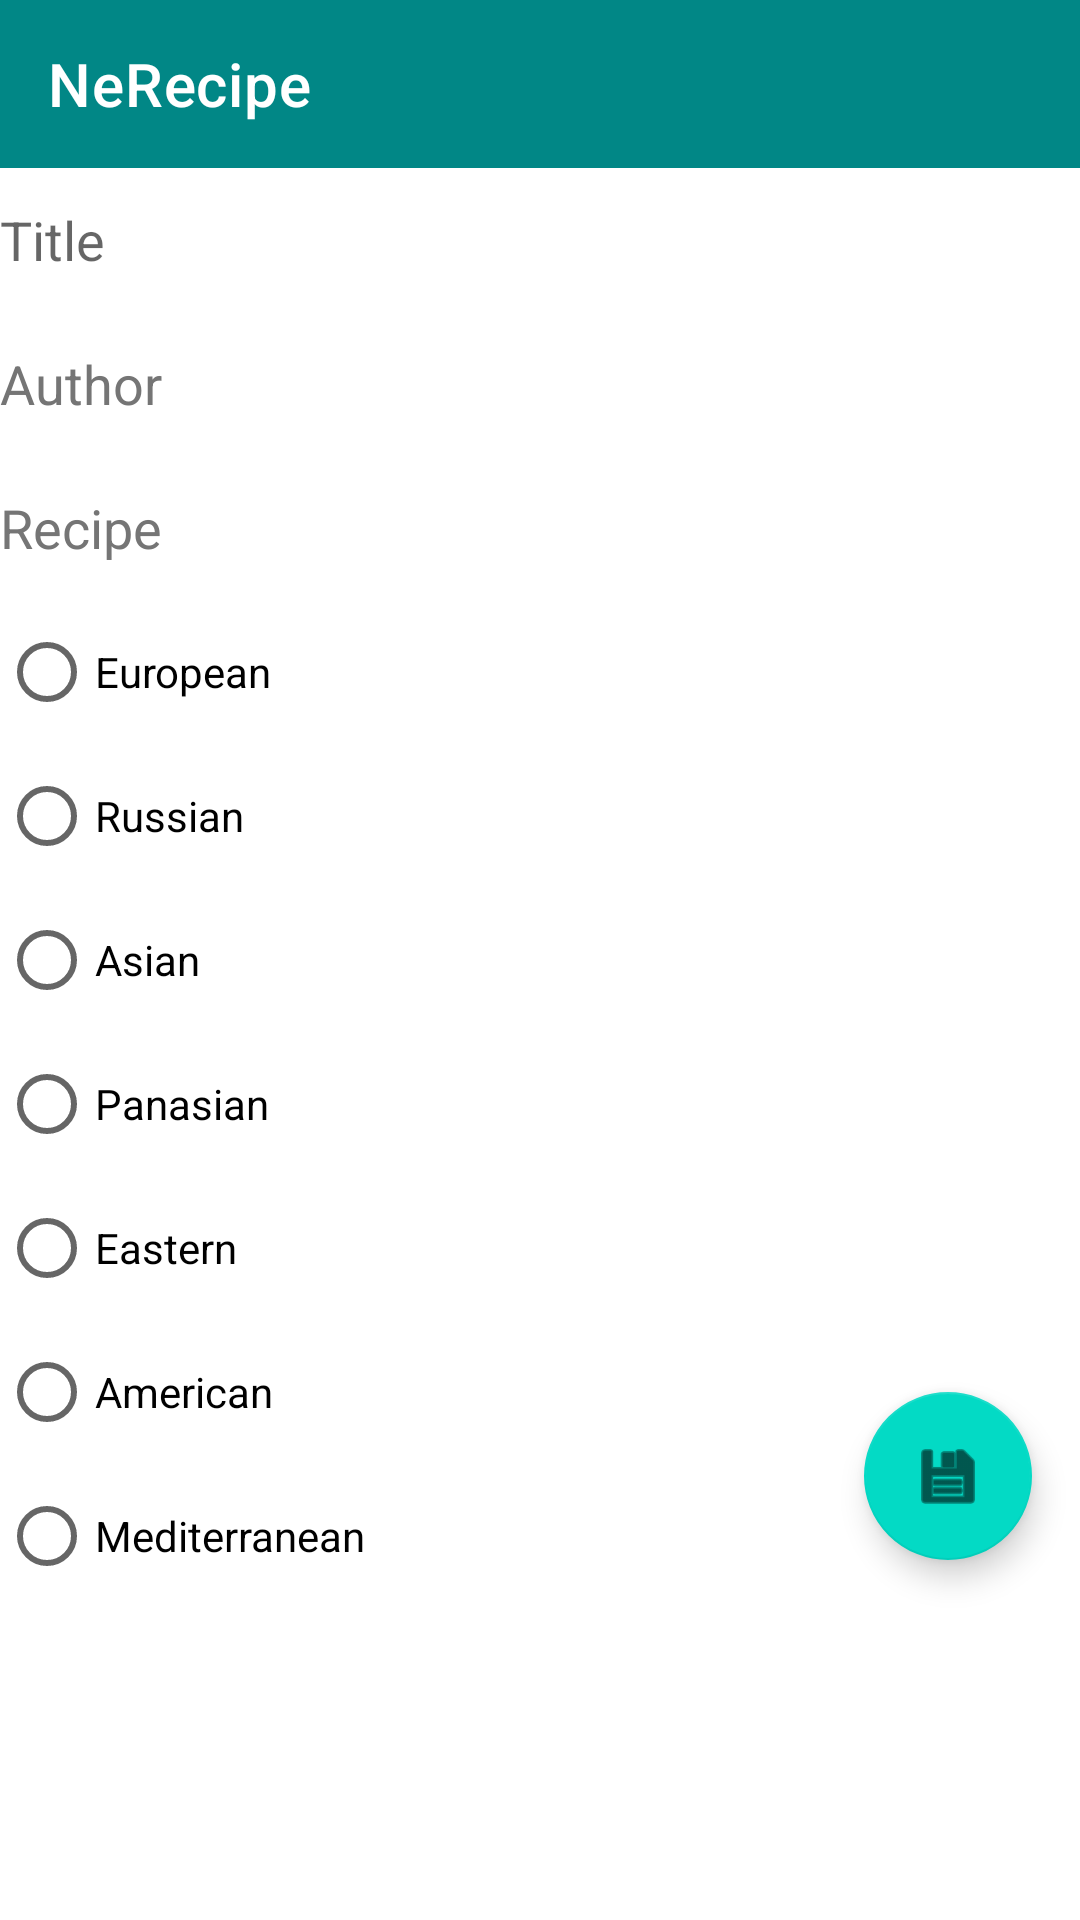

Locate icon controls on the screen. Image size 1080px×1920px, boxes as (x1, y1, x2, y2).
Save: (864, 1392, 1032, 1560)
